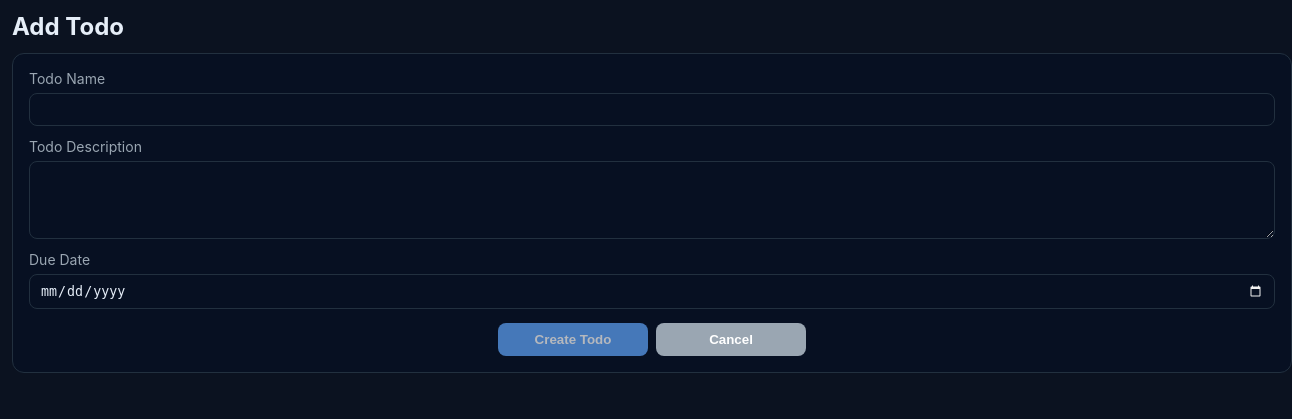
Test: AddComponent › Add todo API fails
Type "Task" into the field labelled "Todo Name" at (652, 110), box [29,93,1275,126]
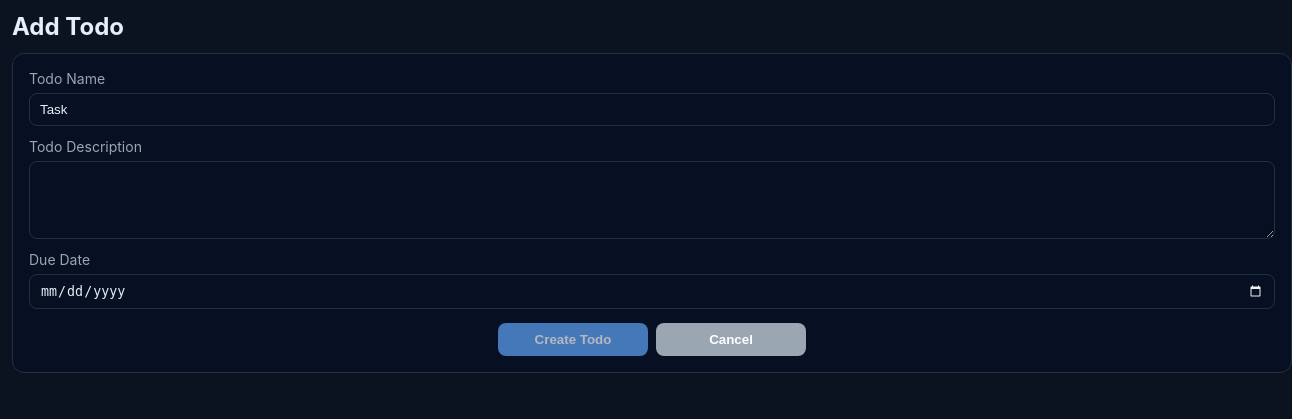
Type "2026-03-20" into the date field labelled "Due Date" at (652, 292), box [29,274,1275,309]
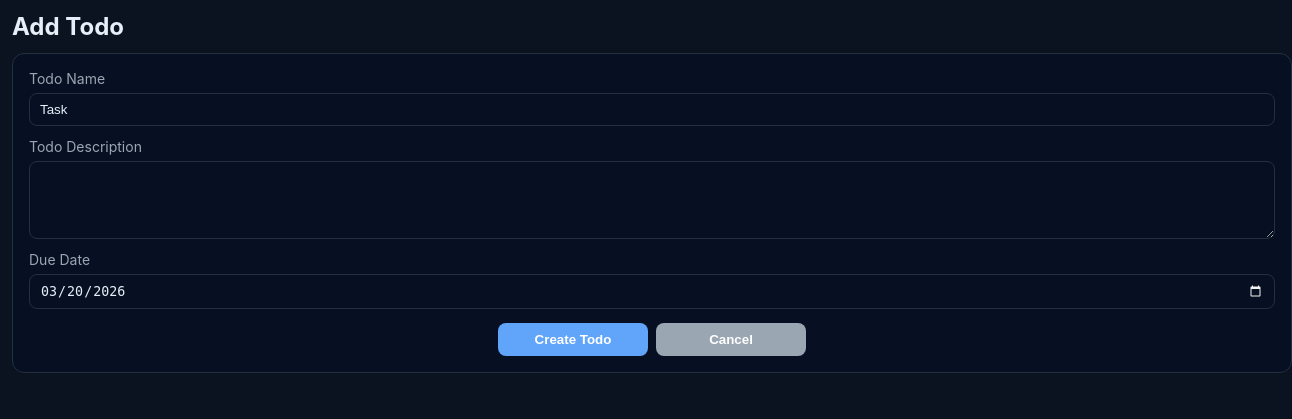
Click the button "Create Todo" at (573, 340), box [498,323,648,356]
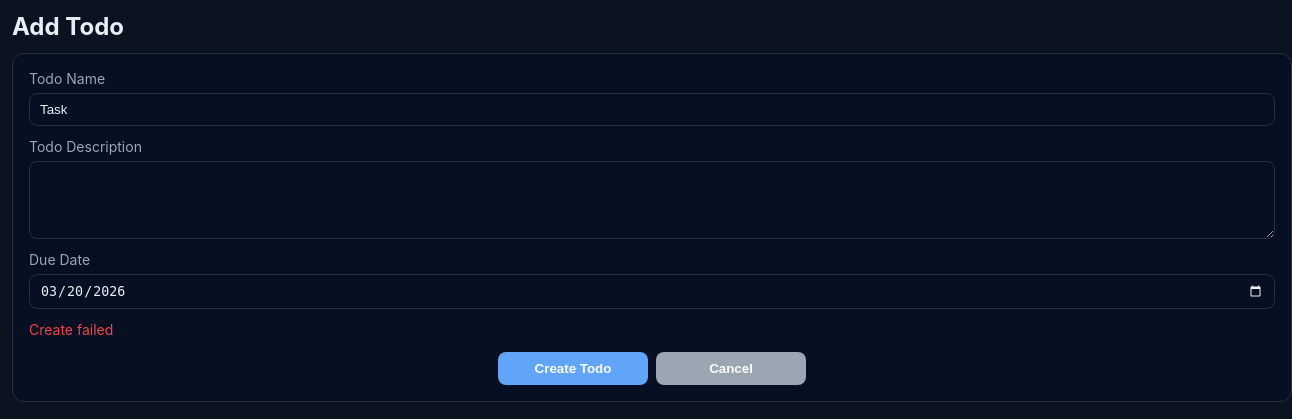
Expected: the text "Create failed" is shown, [29,321,113,338]
